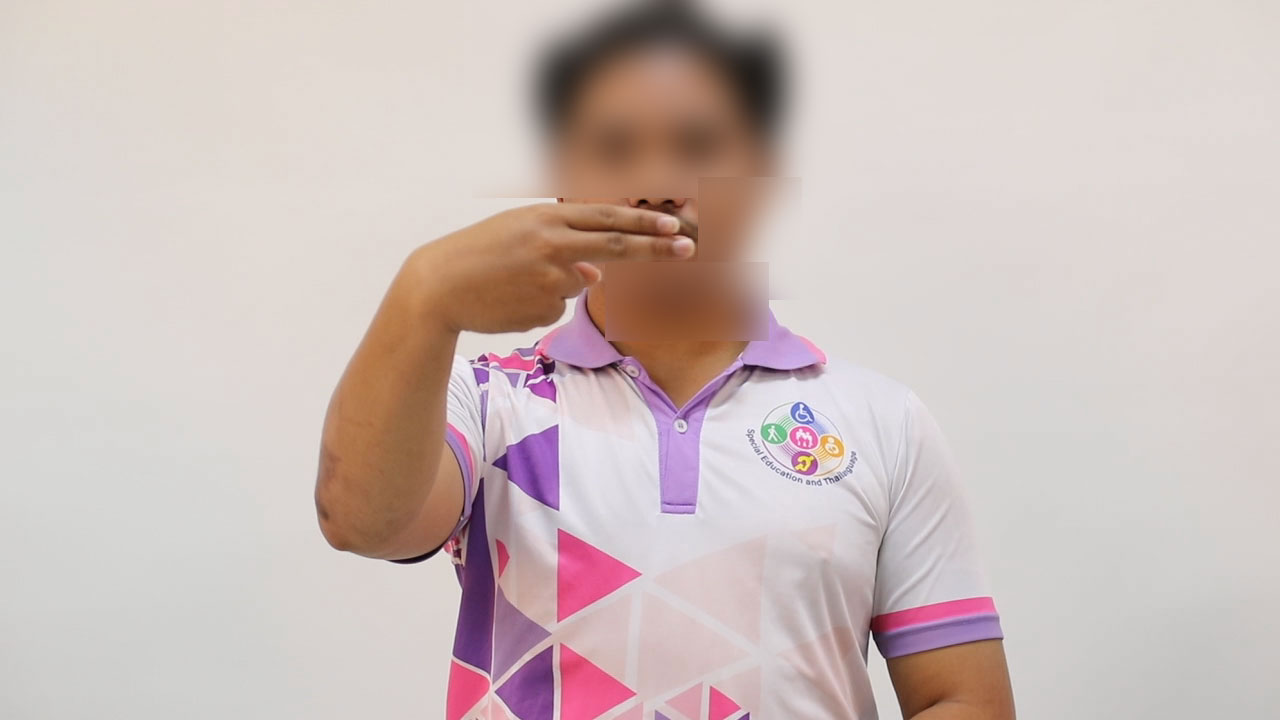hor: (395, 190, 710, 342)
